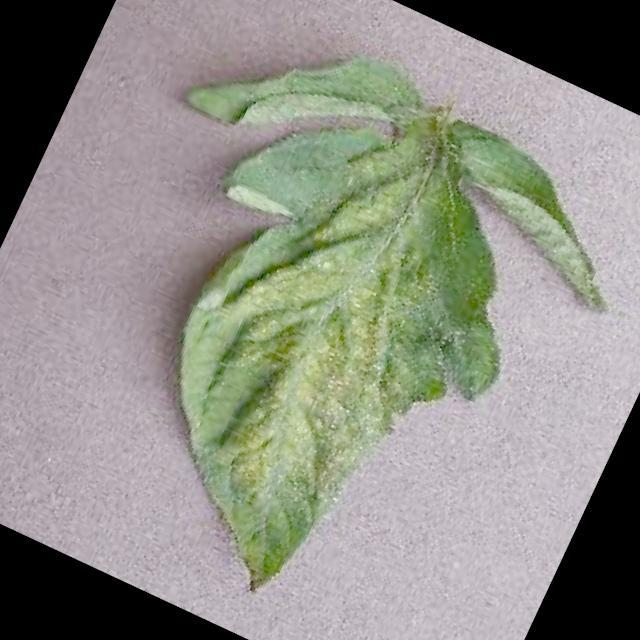Tomato spider mites leaf: (71, 76, 571, 640)
